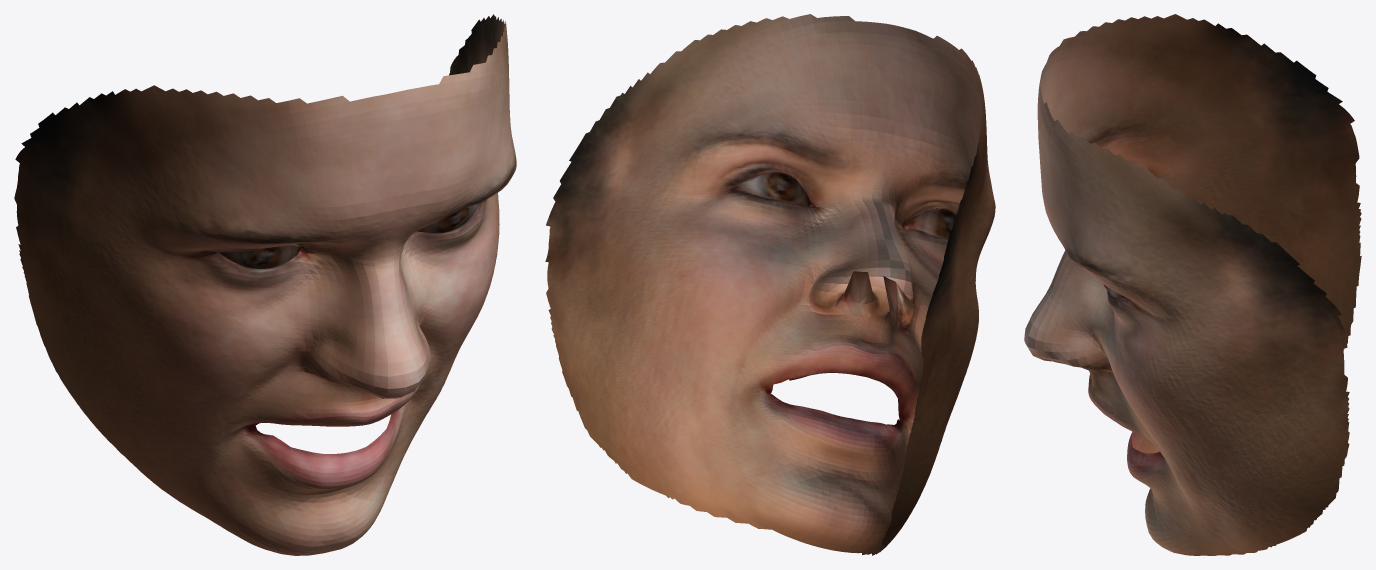
File: disgust2_mesh.obj
3 renders of one model, left to right at view 1: azimuth 30°, elevation 25°; view 2: azimuth 150°, elevation 25°; view 3: azimuth 270°, elevation 25°, orthographic. The views are drawn at different scales.
Size of the model in its own units: 1.33 by 1.54 by 1.01.
